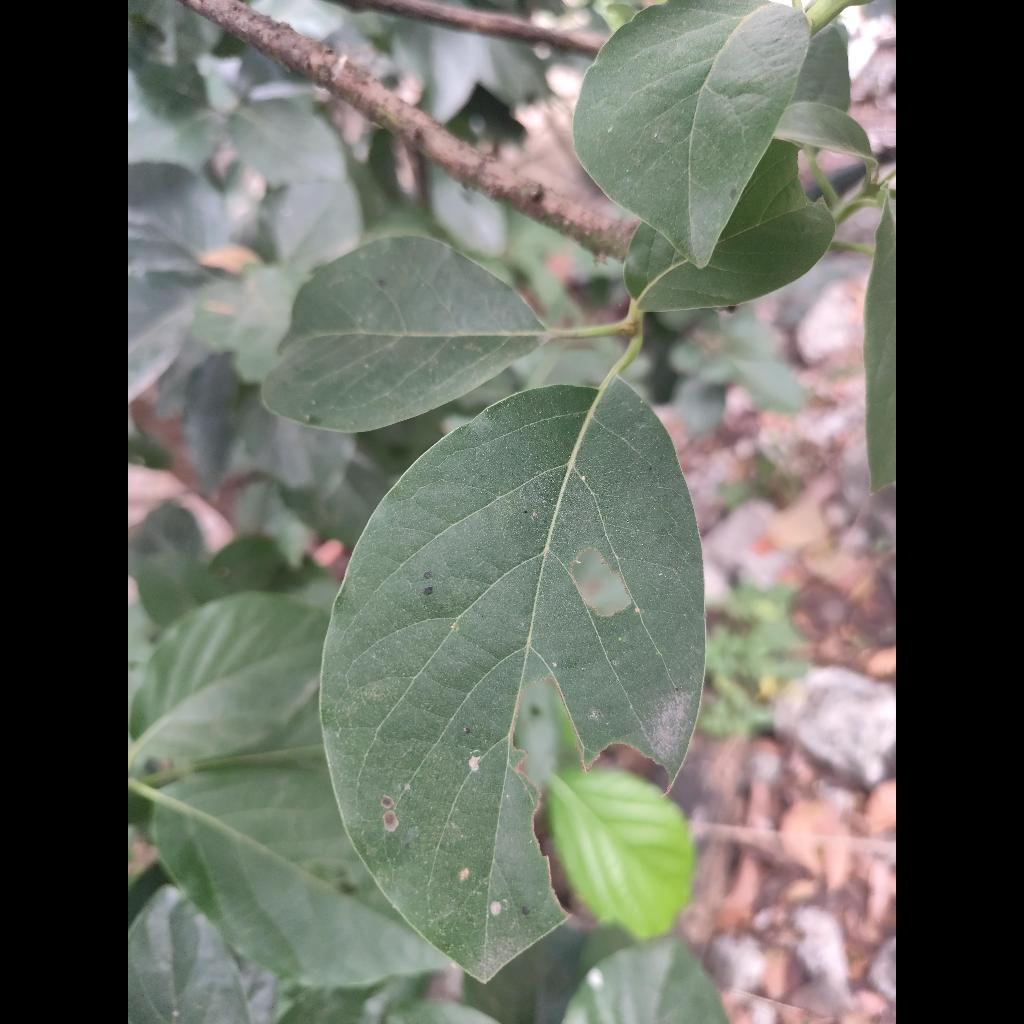Pest Infested: (321, 377, 705, 980)
